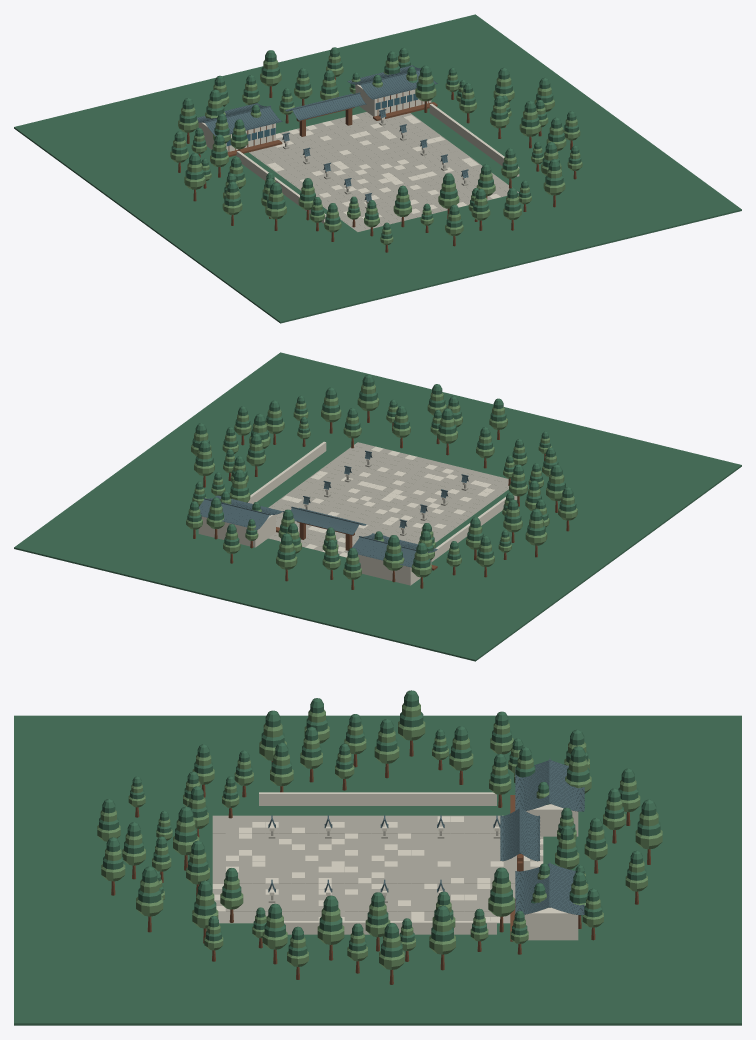
Rendered from hidden-inventory.glb.
3 renders of one model, top to bottom at view 1: azimuth 30°, elevation 25°; view 2: azimuth 150°, elevation 25°; view 3: azimuth 270°, elevation 25°, orthographic. The views are drawn at different scales.
Parts seen in each view (by area): view 1: Cypress green, Warm limestone, Sunlit foliage, Blue slate, Ivory plaster, Aged cedar, perimeter wall_6, school_hall_4, school_hall_3, perimeter wall_5, Smoked glass; view 2: Cypress green, Warm limestone, Sunlit foliage, Blue slate, Ivory plaster, Aged cedar, school_hall_4, school_hall_3, perimeter wall_6, perimeter wall_5; view 3: Cypress green, Warm limestone, Sunlit foliage, Blue slate, Ivory plaster, perimeter wall_5, Aged cedar, school_hall_4, perimeter wall_6, school_hall_3.
Part boxes in pixels (x1,y1,x2,y2): Cypress green: (14, 14, 741, 323); Warm limestone: (249, 112, 518, 231); Sunlit foliage: (170, 55, 582, 244); Blue slate: (197, 65, 468, 201); Ivory plaster: (267, 115, 500, 218); Aged cedar: (178, 77, 576, 252); perimeter wall_6: (429, 103, 519, 176); school_hall_4: (355, 84, 431, 116); school_hall_3: (198, 122, 275, 151); perimeter wall_5: (236, 151, 326, 223); Smoked glass: (226, 94, 418, 146); Cypress green: (14, 352, 741, 661); Warm limestone: (268, 442, 508, 554); Sunlit foliage: (186, 384, 577, 579); Blue slate: (199, 450, 468, 567); Ivory plaster: (280, 446, 494, 557); Aged cedar: (193, 411, 569, 589); school_hall_4: (198, 514, 275, 547); school_hall_3: (358, 554, 431, 585); perimeter wall_6: (248, 441, 326, 503); perimeter wall_5: (431, 495, 517, 561); Cypress green: (14, 690, 741, 1025); Warm limestone: (212, 815, 543, 923); Sunlit foliage: (97, 703, 662, 969); Blue slate: (268, 758, 584, 915); Ivory plaster: (212, 816, 543, 922); perimeter wall_5: (259, 792, 496, 805); Aged cedar: (111, 740, 650, 984); school_hall_4: (524, 907, 578, 940); perimeter wall_6: (284, 921, 496, 934); school_hall_3: (526, 804, 578, 836).
Bounding box in the file's own units: 220 × 22.55 × 220.
